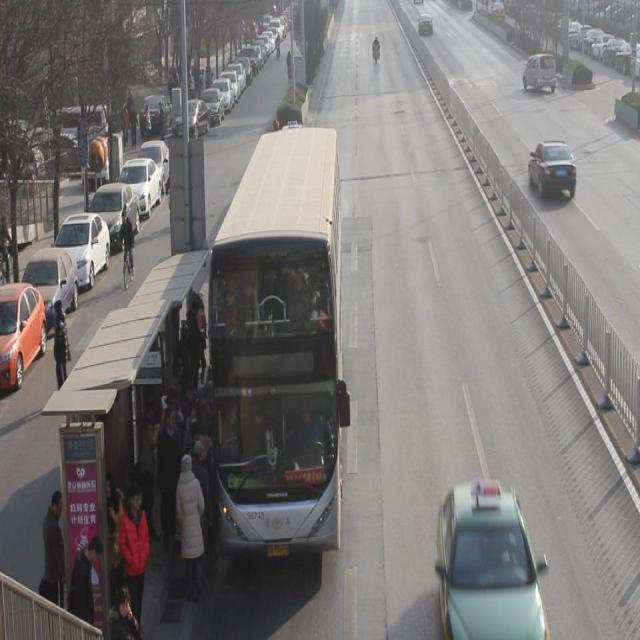car: (435, 476, 547, 640), (529, 141, 578, 199), (417, 12, 434, 35)
truck: (524, 53, 558, 95)
van: (207, 127, 341, 553)
